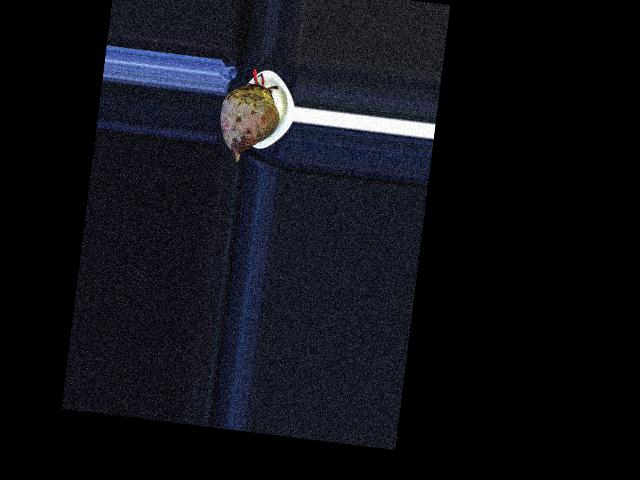beet: (216, 65, 285, 165)
